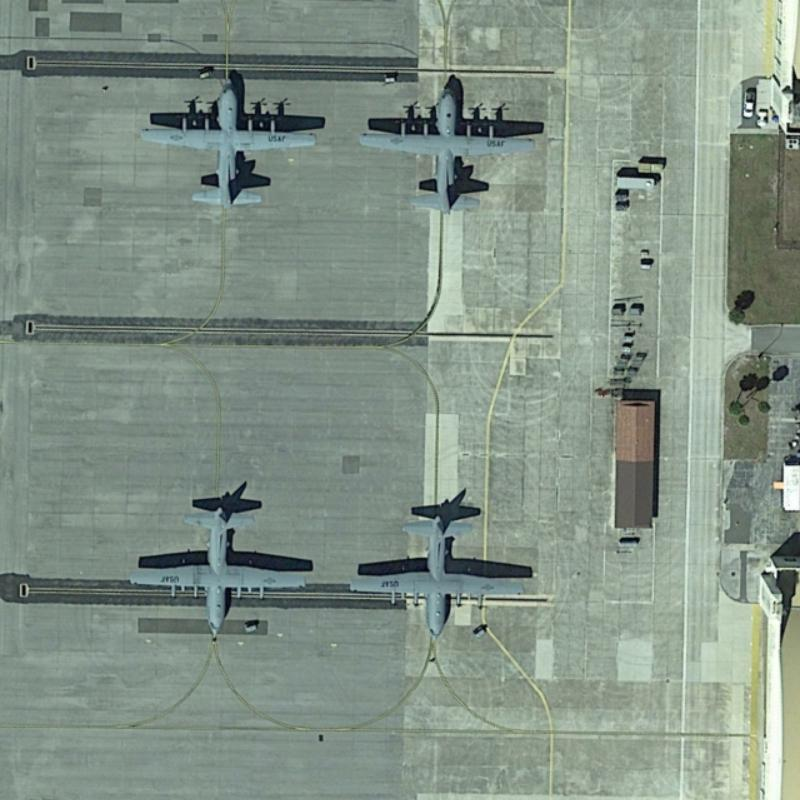A2: (338, 501, 544, 643), (124, 498, 317, 647), (131, 71, 325, 212), (353, 77, 540, 216)
